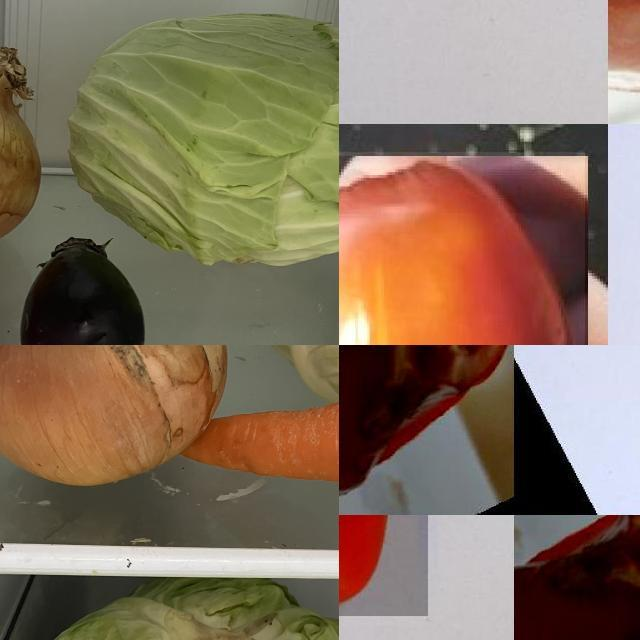cabbage: (65, 11, 340, 275), (1, 575, 340, 640)
carrot: (173, 382, 340, 498)
eggplant: (21, 233, 149, 346)
onion: (1, 346, 232, 492)
tomato: (340, 516, 429, 616)
